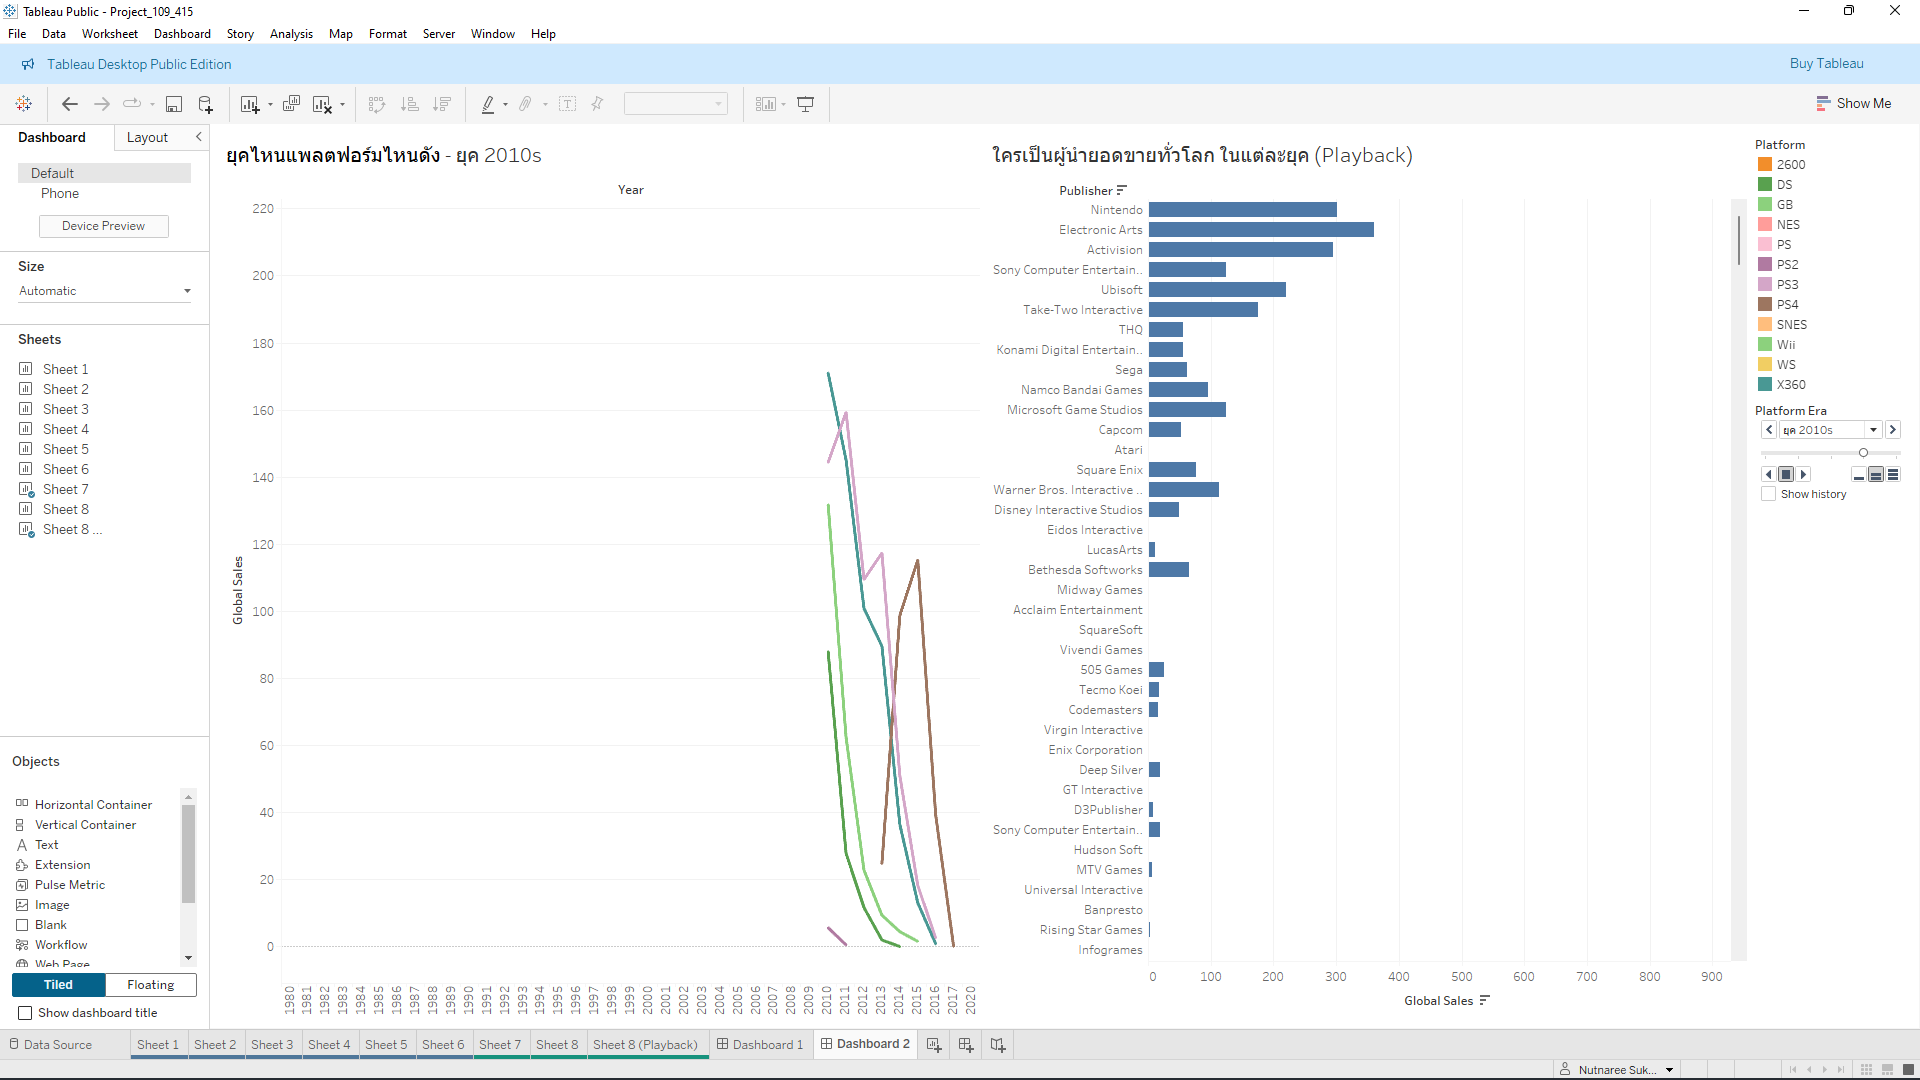

The page's visual inventory and layout, read from the dashboard file:
{"tool":"tableau","page":{"name":"Dashboard 2","canvas":[1000,1000],"units":"permille","ordinal":1},"visuals":[{"type":"worksheet","title":"Sheet 7","mark":"Line","rows":["Global_Sales"],"cols":["Year"],"box":[4.7,8.8,448.5,982.3]},{"type":"worksheet","title":"Sheet 8 (Playback)","mark":"Automatic","rows":["Publisher"],"cols":["Global_Sales"],"box":[453.2,8.8,448.5,982.3]},{"type":"legend","title":"Sheet 7","param":"[federated.082d6w301ytw0d1fbyf6z1rj0ktg].[none:Platform:nk]","box":[901.7,8.8,93.6,294.2]},{"type":"currpage","title":"Sheet 7","box":[901.7,303.1,93.6,121.7]}]}

Visuals, with their boxes on the dashboard's canvas, which has no fixed pixel size, in thousandths of its width and height (x1, y1, x2, y2). These are canvas units, not pixel positions in the 1920x1080 screenshot, which may show the page scaled, cropped or inside an application window:
"Sheet 7" worksheet (Line marks): [x1=5, y1=9, x2=453, y2=991]
"Sheet 8 (Playback)" worksheet: [x1=453, y1=9, x2=902, y2=991]
"Sheet 7" legend: [x1=902, y1=9, x2=995, y2=303]
"Sheet 7" currpage: [x1=902, y1=303, x2=995, y2=425]
